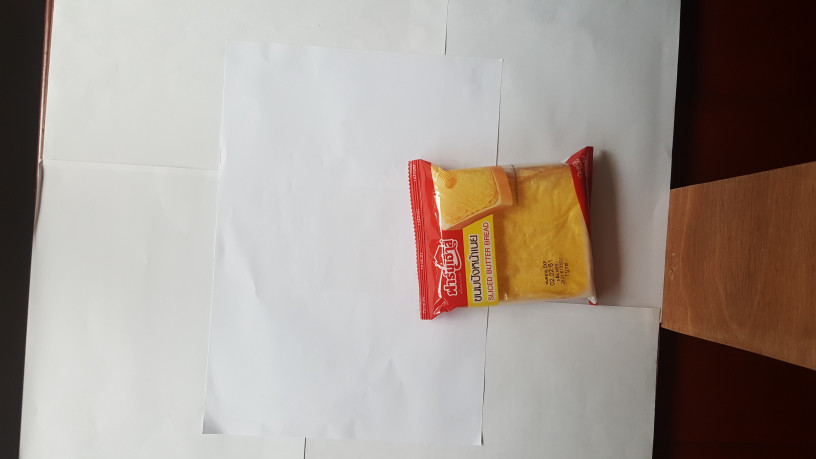farmhouse-bread-butter: (404, 145, 605, 325)
